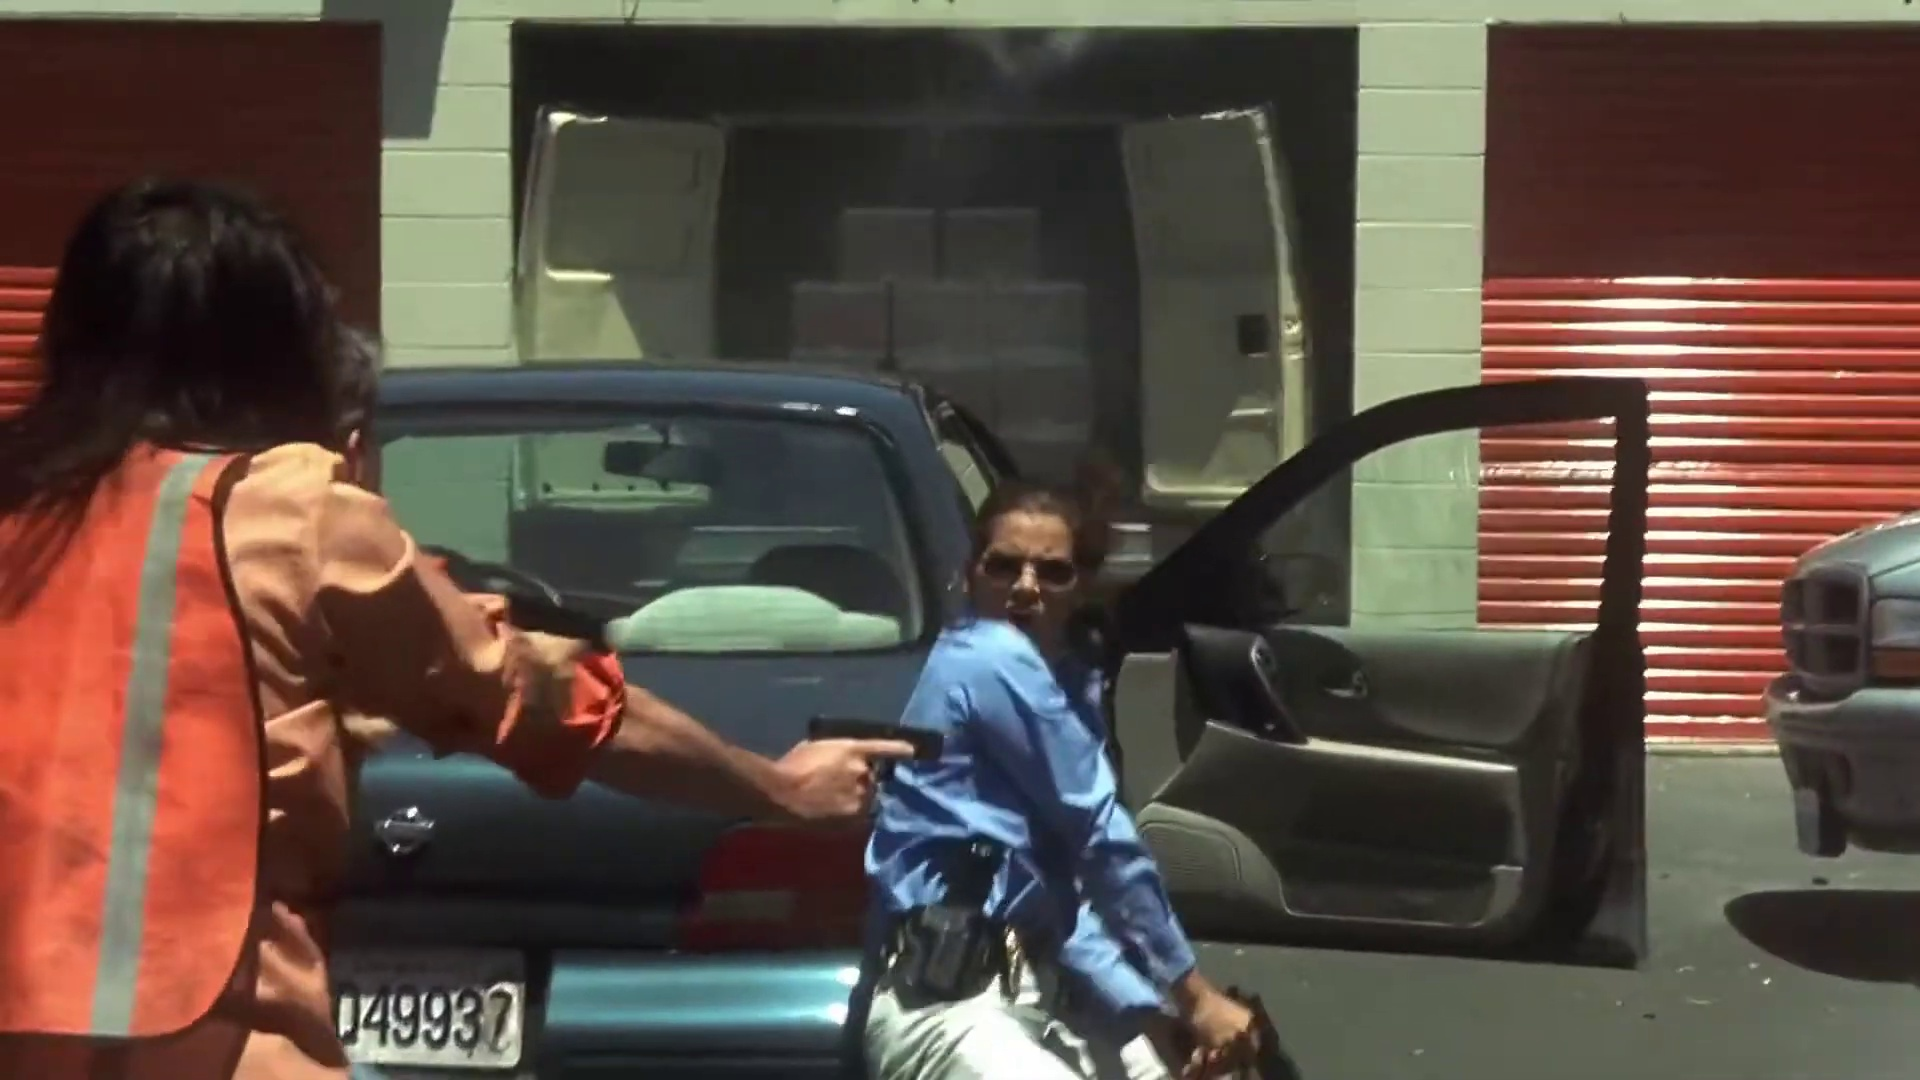gun: (795, 703, 955, 814), (1199, 977, 1303, 1080)
p_w_gun: (0, 181, 957, 1080), (839, 479, 1311, 1080)
